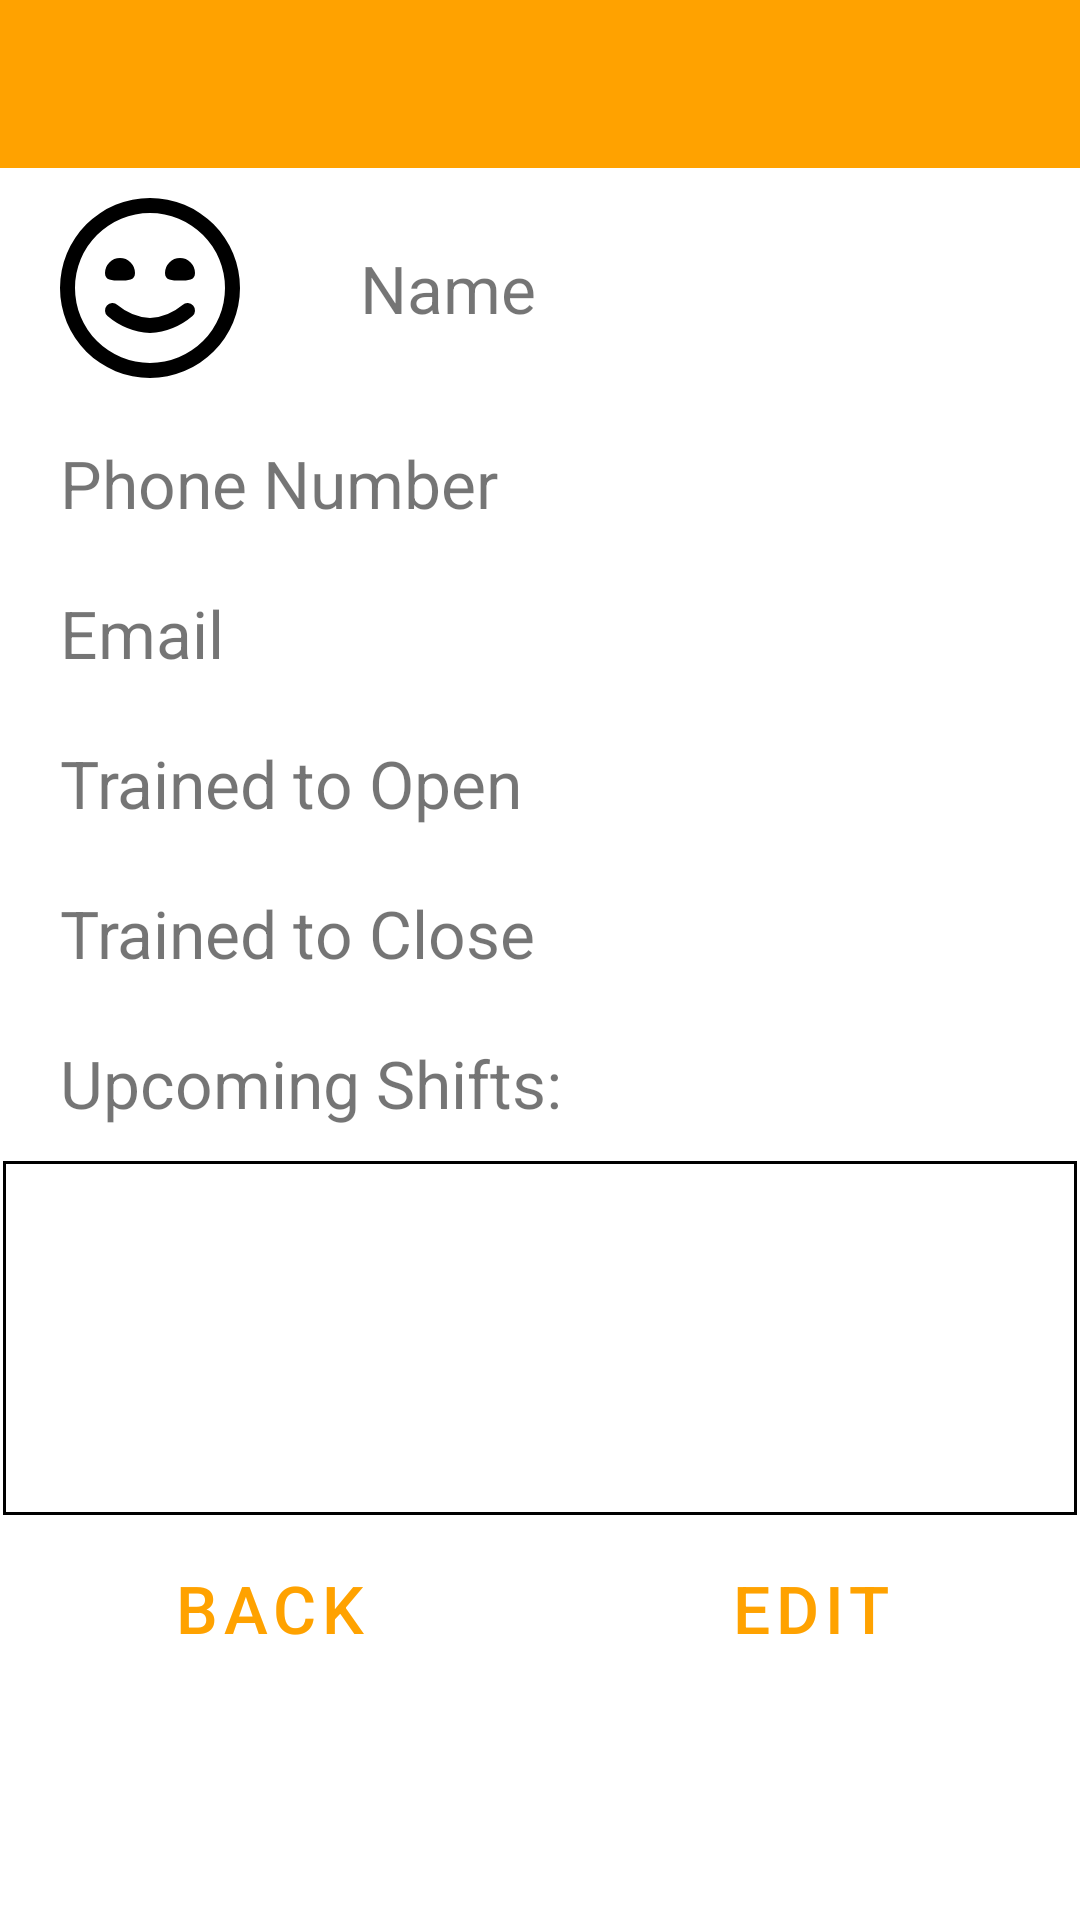

Named icons in this screenshot (1080px x 1920px) and their bounding boxes, (x1, y1, x2, y2):
headshot: (60, 198, 240, 378)
